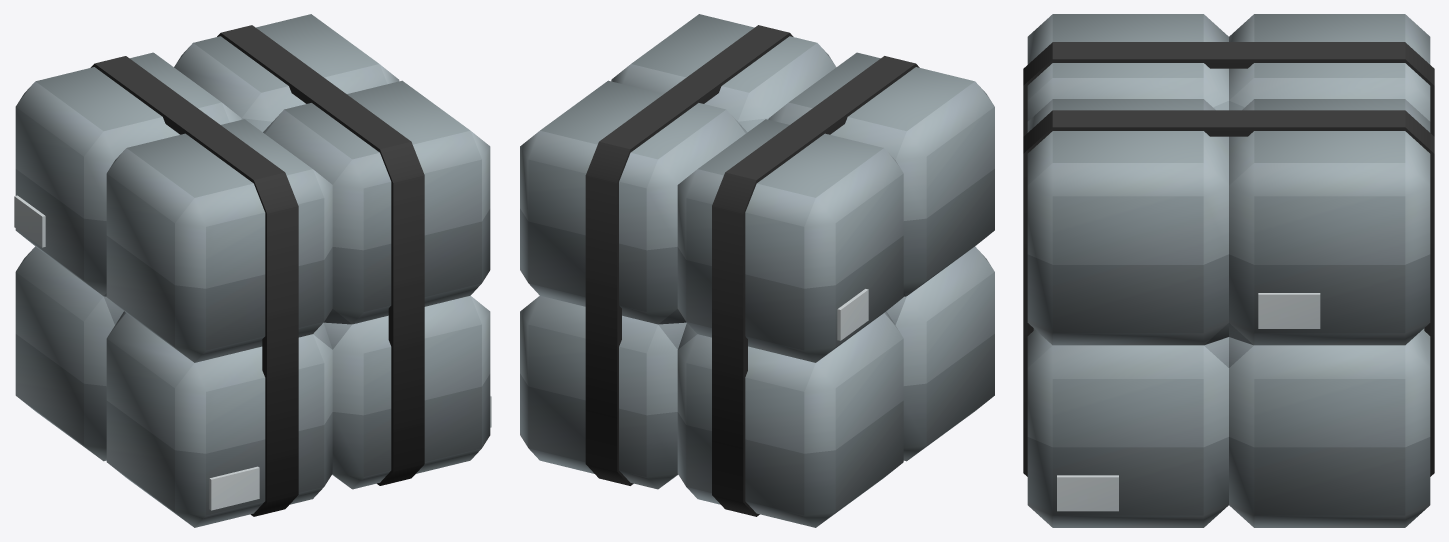
The model's file is cargo_B_stacked.glb.
The picture shows the model from 3 angles, left to right: view 1: azimuth 30°, elevation 25°; view 2: azimuth 150°, elevation 25°; view 3: azimuth 270°, elevation 25°; orthographic projection. The views are drawn at different scales.
Visible parts, largest first — view 1: cargo_B_stacked_Cube.15112; view 2: cargo_B_stacked_Cube.15112; view 3: cargo_B_stacked_Cube.15112.
Part boxes in pixels (x1,y1,x2,y2): cargo_B_stacked_Cube.15112: (14,14,491,527); cargo_B_stacked_Cube.15112: (520,14,994,527); cargo_B_stacked_Cube.15112: (1023,14,1434,527).
Bounding box in the file's own units: 1.02 × 1.02 × 1.02.
1 material, 1 textured.
